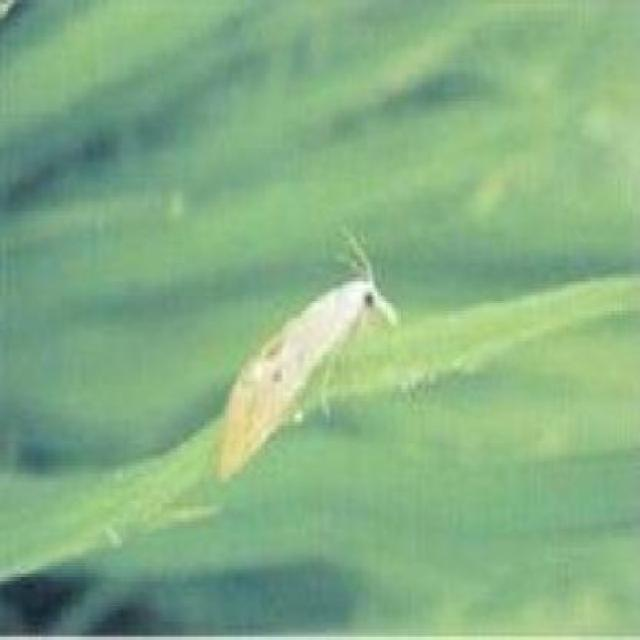stem-borer: (214, 227, 400, 485)
